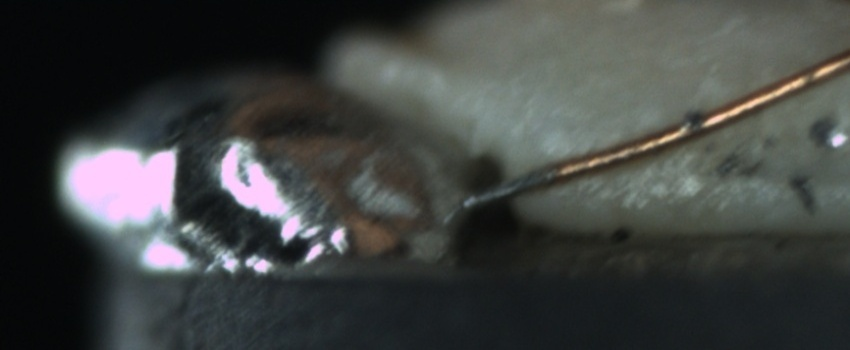TS: (460, 166, 557, 212)
